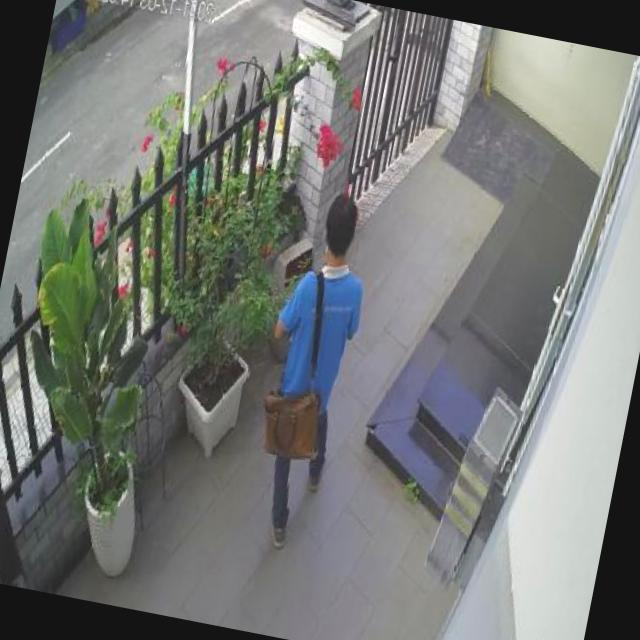Person: (233, 182, 383, 557)
